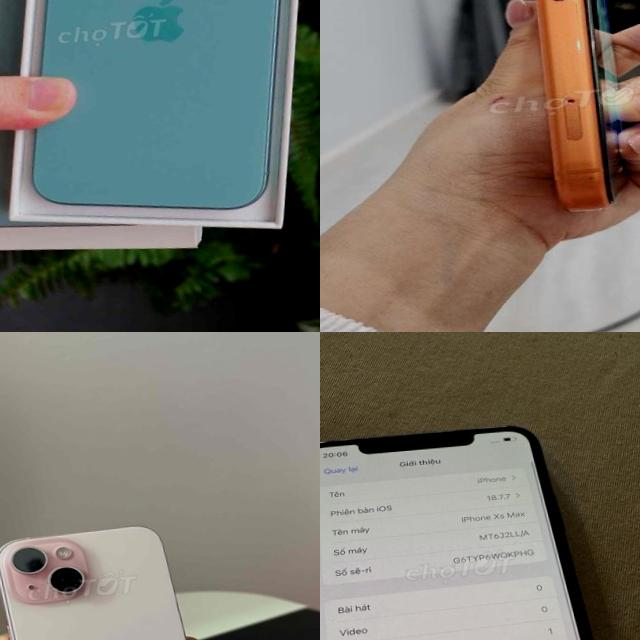gen_15: (0, 502, 238, 640)
gen_16: (4, 0, 319, 240)
gen_17: (478, 0, 640, 224)
gen_x_xs: (320, 409, 640, 640)
scratch: (564, 30, 595, 60)
